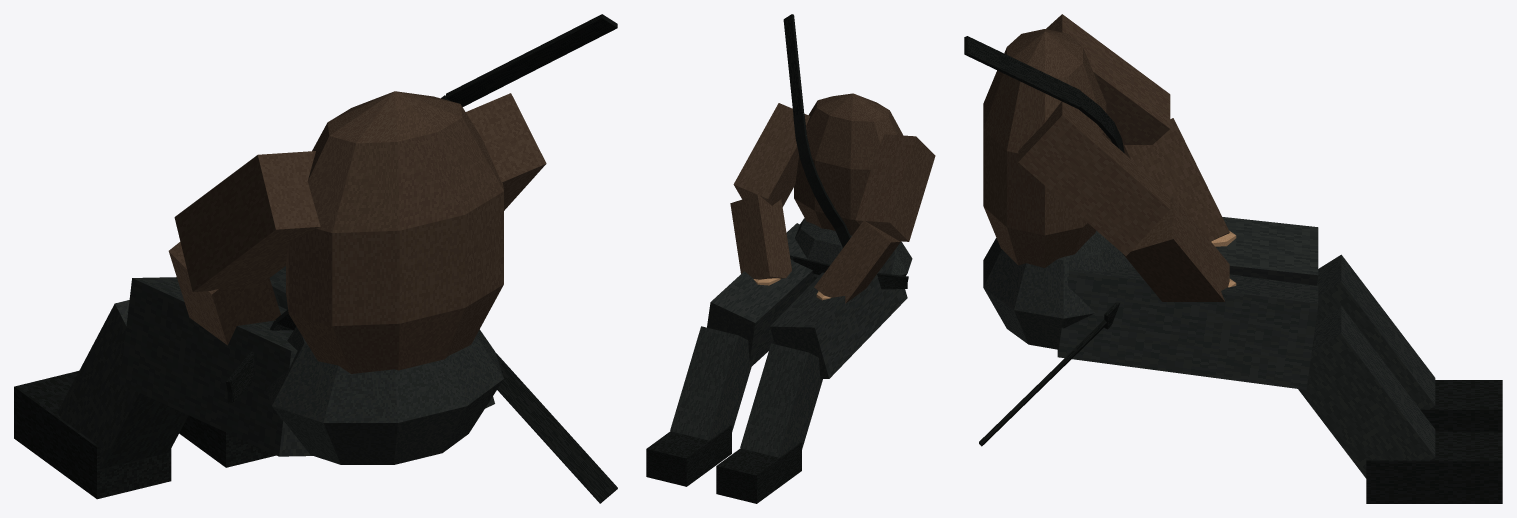
File: colleague.glb
3 views of the same model, side by side, from view 1: azimuth 30°, elevation 25°; view 2: azimuth 150°, elevation 25°; view 3: azimuth 270°, elevation 25° (orthographic). The views are drawn at different scales.
Parts seen in each view (by area): view 1: colleague; view 2: colleague; view 3: colleague.
Part boxes in pixels (x1,y1,x2,y2): colleague: [14, 14, 617, 503]; colleague: [646, 14, 935, 503]; colleague: [964, 14, 1502, 503].
Bounding box in the file's own units: 0.6794 × 1.16 × 1.15.
1 material, 1 textured.
